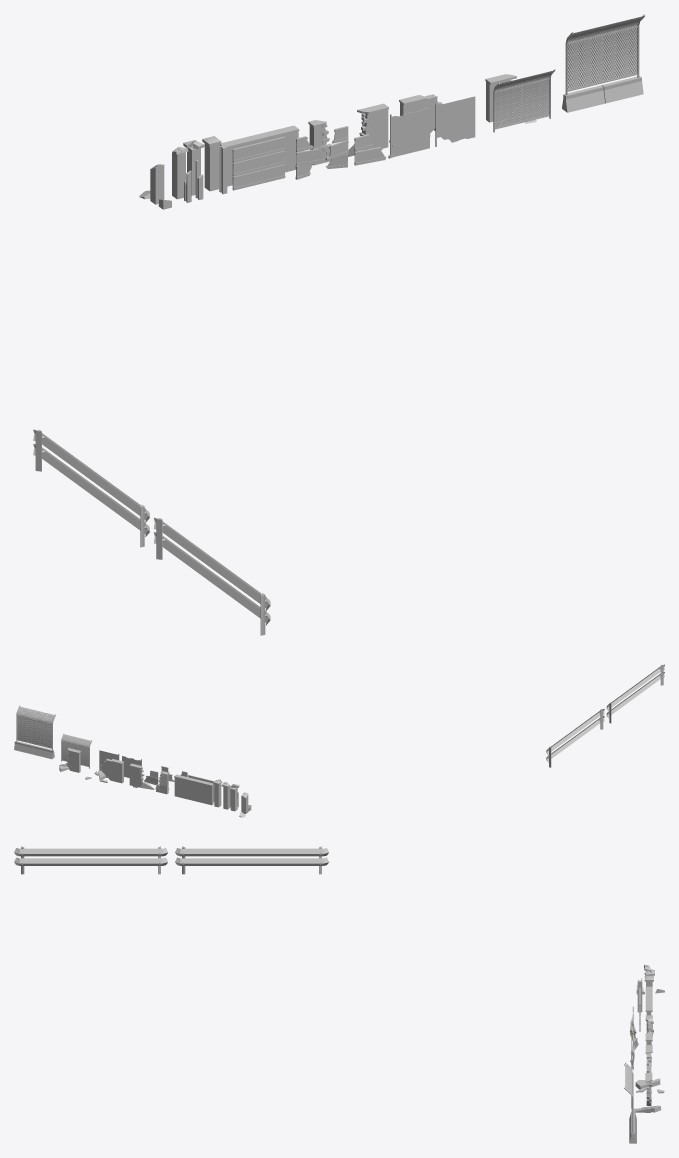
The model's file is Fences.FBX.
3 views of the same model, one above another, from view 1: azimuth 30°, elevation 25°; view 2: azimuth 150°, elevation 25°; view 3: azimuth 270°, elevation 25° (orthographic). The views are drawn at different scales.
Parts seen in each view (by area): view 1: Fence_E, StreetRail_A_B, StreetRail_A_A, Fence_D, Fence_A_A, Fence_B_B, Fence_C_A, Fence_C_B, Fence_A_B, Fence_B_A; view 2: Fence_E, Fence_B_A, StreetRail_A_A, StreetRail_A_B, Fence_B_B, Fence_D, Fence_B_C, Fence_B_D; view 3: StreetRail_A_A, StreetRail_A_B, Fence_E.
Part boxes in pixels (x1,y1,x2,y2): Fence_E: (562, 14, 645, 112); StreetRail_A_B: (153, 517, 270, 635); StreetRail_A_A: (33, 429, 149, 547); Fence_D: (493, 69, 555, 132); Fence_A_A: (232, 136, 285, 190); Fence_B_B: (308, 103, 388, 165); Fence_C_A: (390, 107, 429, 156); Fence_C_B: (435, 96, 475, 146); Fence_A_B: (295, 126, 348, 179); Fence_B_A: (219, 125, 299, 186); Fence_E: (14, 705, 55, 759); Fence_B_A: (174, 774, 213, 805); StreetRail_A_A: (546, 708, 604, 767); StreetRail_A_B: (606, 664, 664, 723); Fence_B_B: (129, 763, 169, 794); Fence_D: (61, 733, 92, 768); Fence_B_C: (85, 758, 124, 783); Fence_B_D: (59, 748, 81, 772); StreetRail_A_A: (175, 846, 328, 874); StreetRail_A_B: (14, 846, 167, 874); Fence_E: (624, 1064, 636, 1143).
Size of the model in its own units: 3836 by 387 by 3865.
